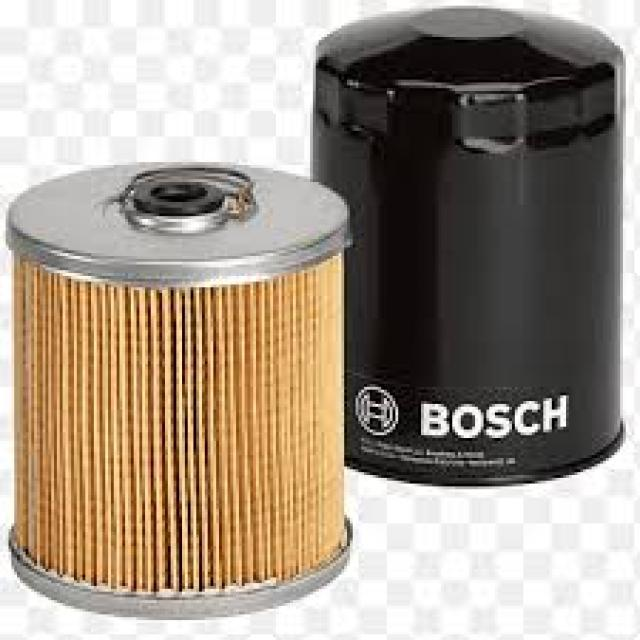oil_filter: (0, 152, 342, 618), (315, 7, 640, 488)
